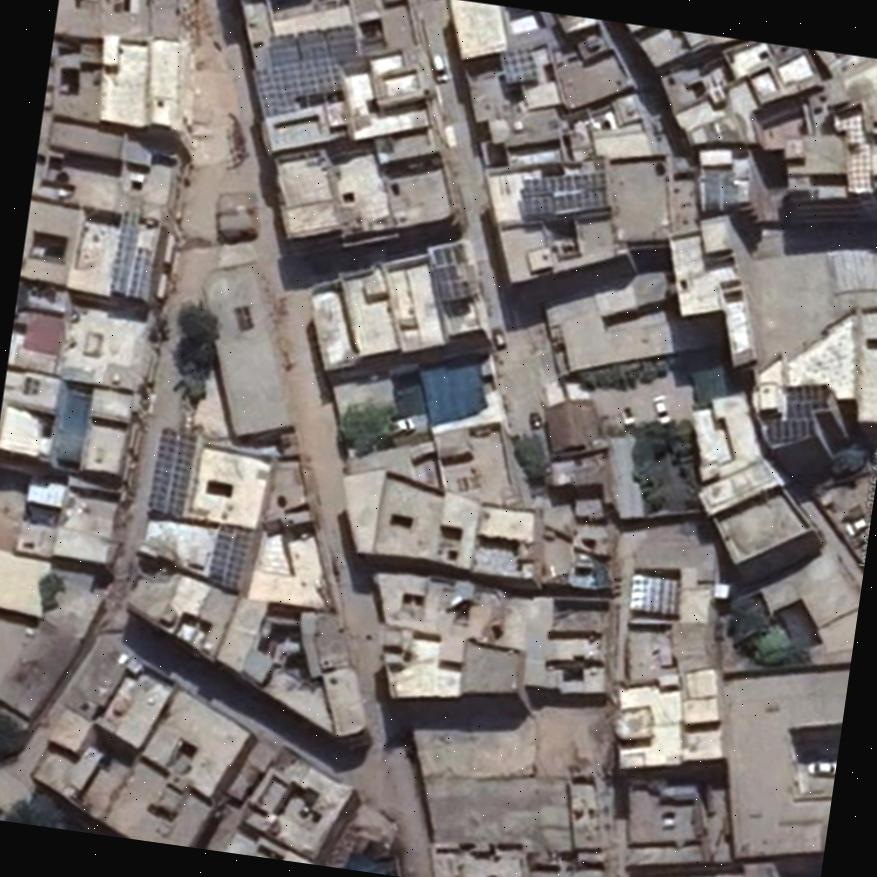Solarpanel: (256, 58, 342, 114), (107, 210, 160, 298), (146, 426, 197, 516), (519, 170, 610, 216), (428, 241, 478, 304), (207, 523, 251, 590), (631, 574, 681, 614), (496, 46, 539, 84), (785, 381, 831, 416), (770, 419, 816, 438)
